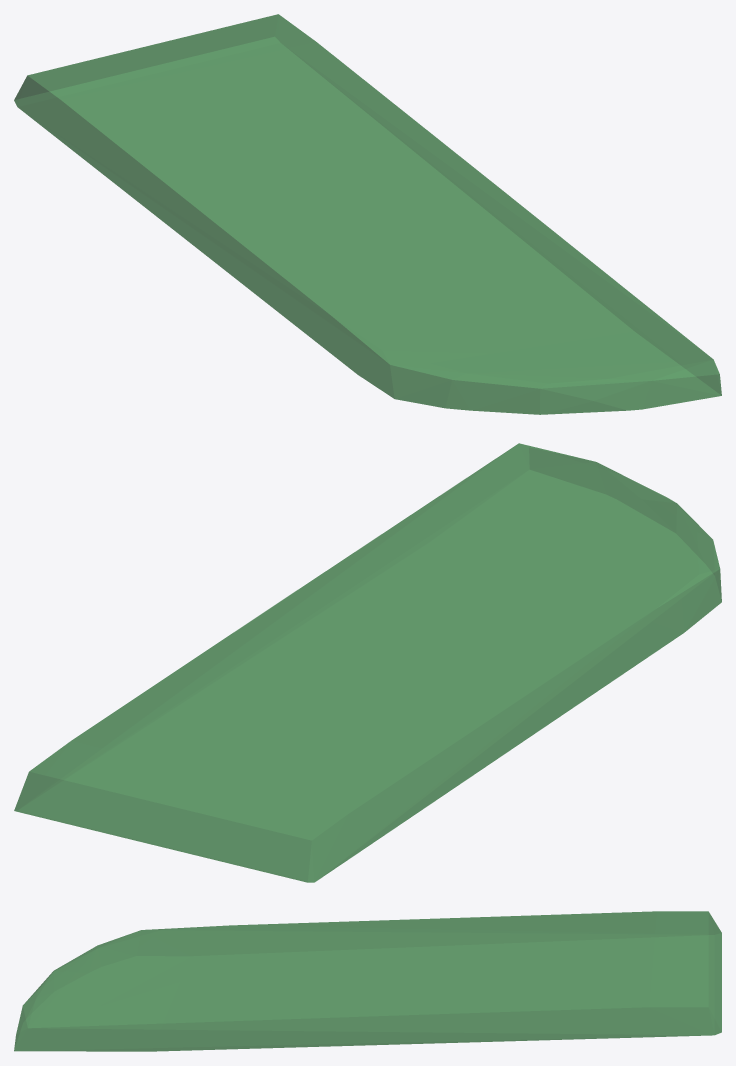
3 renders of one model, top to bottom at view 1: azimuth 30°, elevation 25°; view 2: azimuth 150°, elevation 25°; view 3: azimuth 270°, elevation 25°, orthographic. The views are drawn at different scales.
Parts seen in each view (by area): view 1: Shape_IndexedFaceSet.003_Shape_IndexedFaceSet.3164; view 2: Shape_IndexedFaceSet.003_Shape_IndexedFaceSet.3164; view 3: Shape_IndexedFaceSet.003_Shape_IndexedFaceSet.3164.
Boxes of the visible parts, x1,y1,x2,y2 form: Shape_IndexedFaceSet.003_Shape_IndexedFaceSet.3164: (14, 14, 721, 414); Shape_IndexedFaceSet.003_Shape_IndexedFaceSet.3164: (14, 443, 721, 882); Shape_IndexedFaceSet.003_Shape_IndexedFaceSet.3164: (14, 911, 721, 1051).
Bounding box in the file's own units: 0.4282 × 0.0893 × 1.27.
